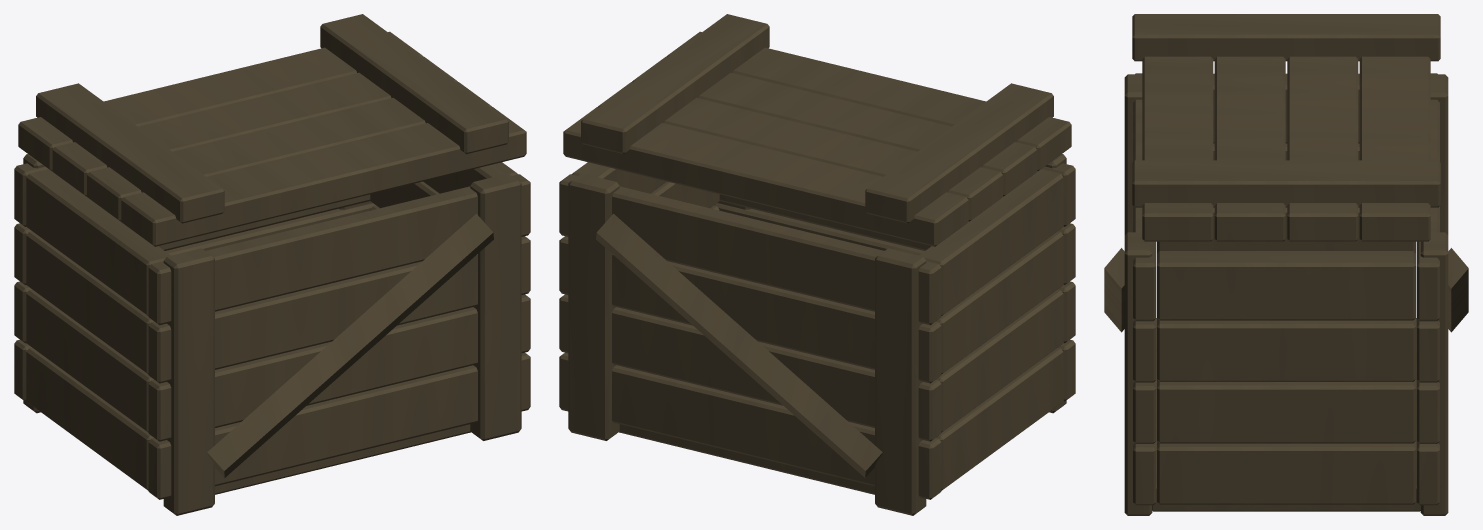
The model's file is WarrensC_CCS67_CrateBodyAndLid_Mars_SM.fbx.
3 renders of one model, left to right at view 1: azimuth 30°, elevation 25°; view 2: azimuth 150°, elevation 25°; view 3: azimuth 270°, elevation 25°, orthographic. The views are drawn at different scales.
Visible parts, largest first — view 1: WarrensC_CCS67_CrateBodyAndLid_Mars_SM.001; view 2: WarrensC_CCS67_CrateBodyAndLid_Mars_SM.001; view 3: WarrensC_CCS67_CrateBodyAndLid_Mars_SM.001.
Boxes of the visible parts, x1,y1,x2,y2 form: WarrensC_CCS67_CrateBodyAndLid_Mars_SM.001: [14, 14, 530, 515]; WarrensC_CCS67_CrateBodyAndLid_Mars_SM.001: [559, 14, 1075, 515]; WarrensC_CCS67_CrateBodyAndLid_Mars_SM.001: [1104, 14, 1468, 515].
Size of the model in its own units: 100 by 80 by 80.
